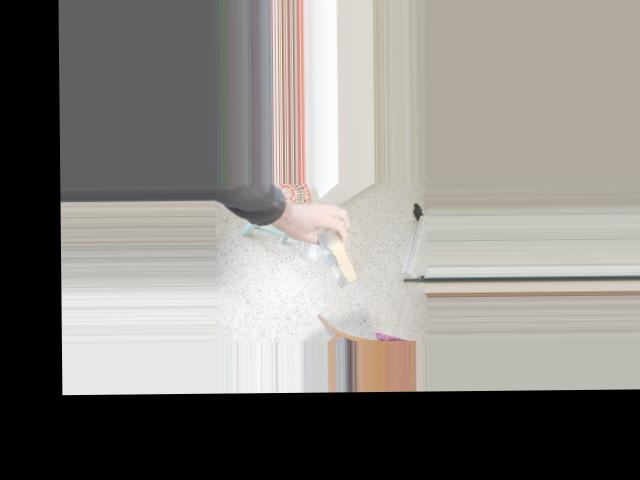cheese: (301, 196, 378, 292)
